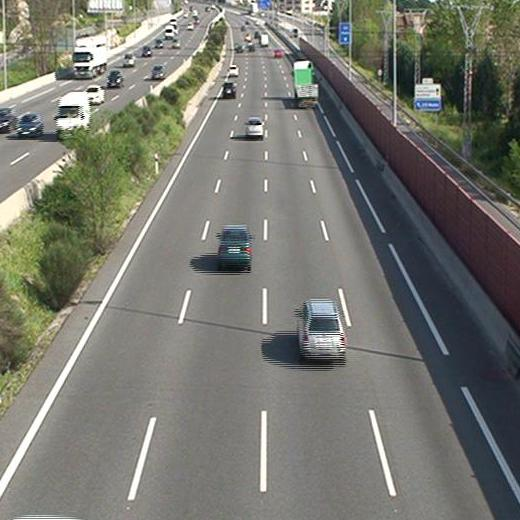car: (298, 301, 347, 359), (219, 227, 251, 266), (245, 119, 264, 135), (223, 82, 237, 97), (227, 65, 239, 76)
truck: (292, 63, 317, 106)
